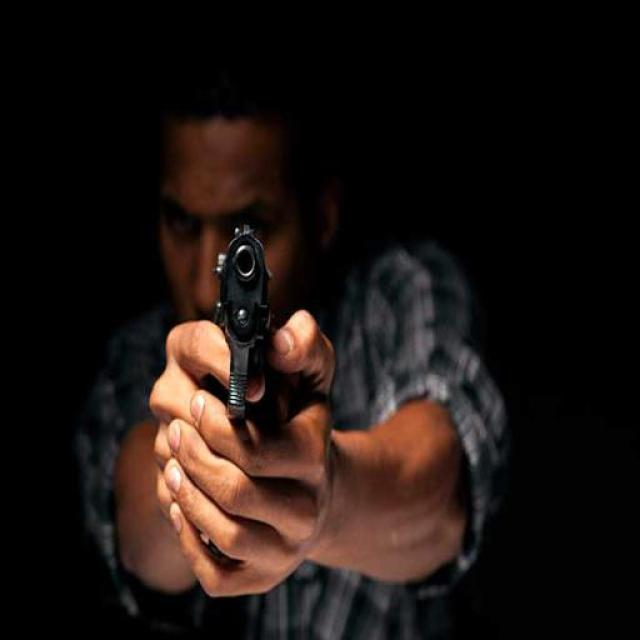pistol: (209, 223, 278, 429)
